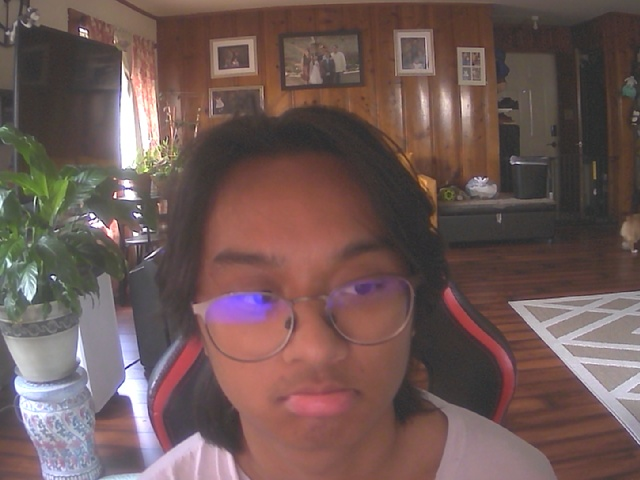sad: (190, 129, 432, 454)
